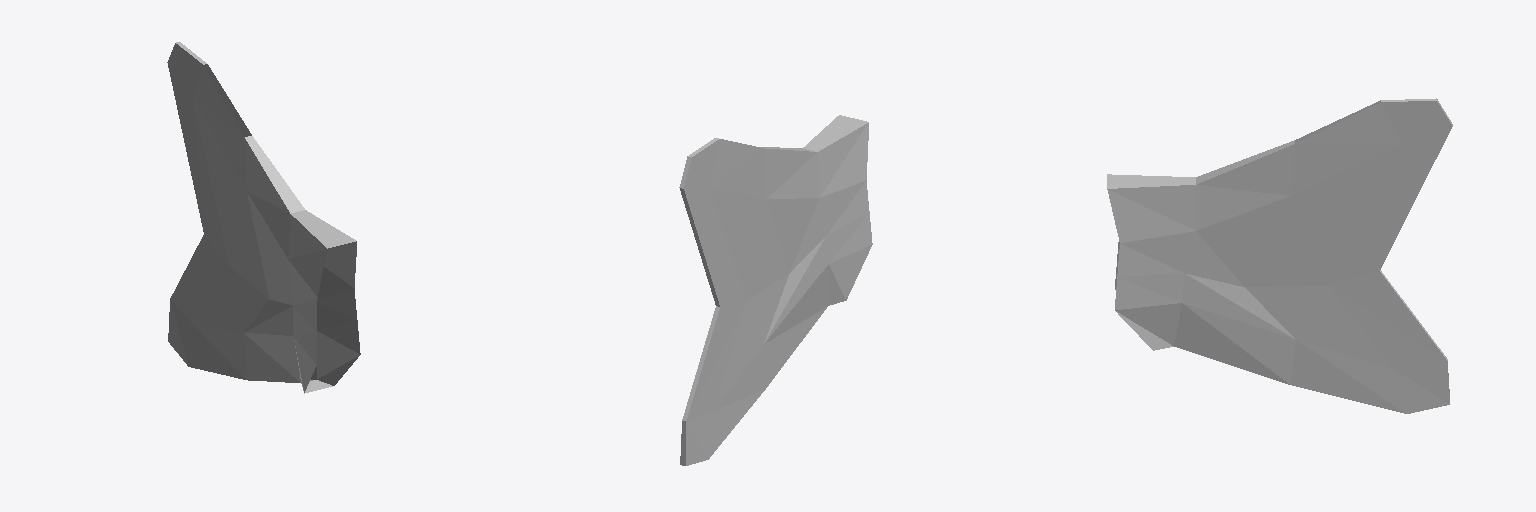
File: PezC7.obj
3 views of the same model, side by side, from view 1: azimuth 30°, elevation 25°; view 2: azimuth 150°, elevation 25°; view 3: azimuth 270°, elevation 25° (orthographic).
Parts seen in each view (by area): view 1: polySurface1 TropicalFish13:TropicalFish13; view 2: polySurface1 TropicalFish13:TropicalFish13; view 3: polySurface1 TropicalFish13:TropicalFish13.
Part boxes in pixels (bbox=[...]): polySurface1 TropicalFish13:TropicalFish13: bbox=[167, 42, 360, 393]; polySurface1 TropicalFish13:TropicalFish13: bbox=[679, 115, 872, 465]; polySurface1 TropicalFish13:TropicalFish13: bbox=[1107, 98, 1452, 413].
Size of the model in its own units: 0.3703 by 2.52 by 2.52.